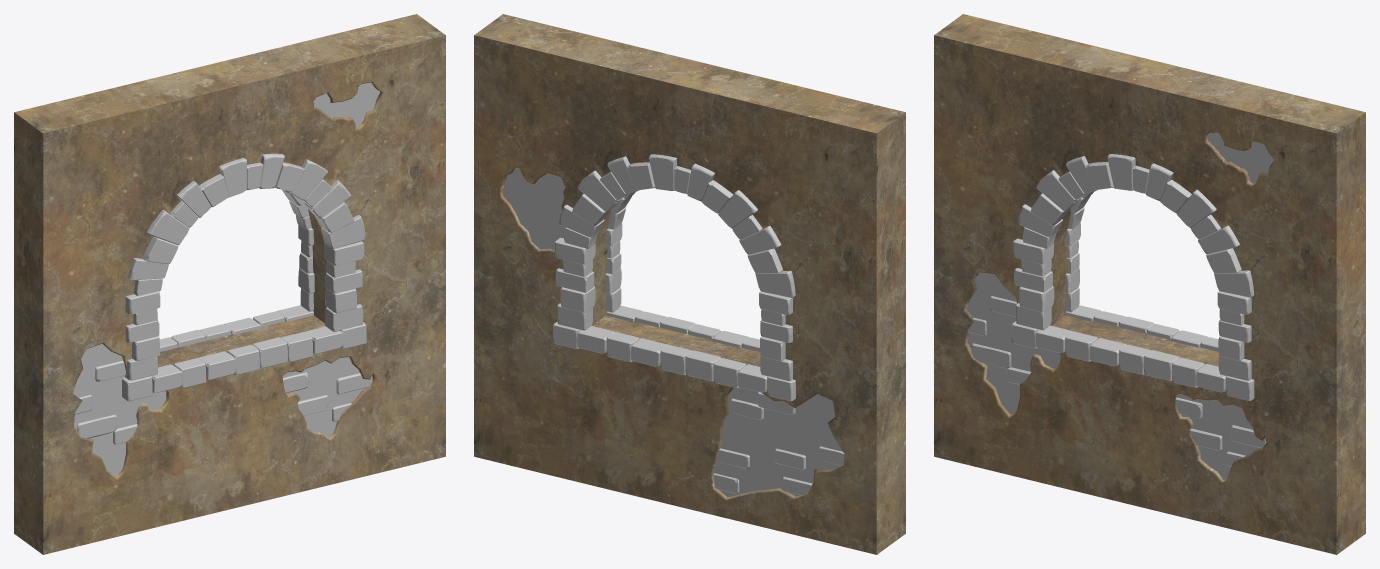
3 views of the same model, side by side, from view 1: azimuth 30°, elevation 25°; view 2: azimuth 150°, elevation 25°; view 3: azimuth 330°, elevation 25° (orthographic).
Parts seen in each view (by area): view 1: SM_Human_Ruins_Window_03_LOD0; view 2: SM_Human_Ruins_Window_03_LOD0; view 3: SM_Human_Ruins_Window_03_LOD0.
Boxes of the visible parts, bbox=[...] form: SM_Human_Ruins_Window_03_LOD0: bbox=[14, 14, 445, 554]; SM_Human_Ruins_Window_03_LOD0: bbox=[474, 14, 905, 554]; SM_Human_Ruins_Window_03_LOD0: bbox=[934, 14, 1365, 554].
Size of the model in its own units: 4 by 4 by 0.6674.
